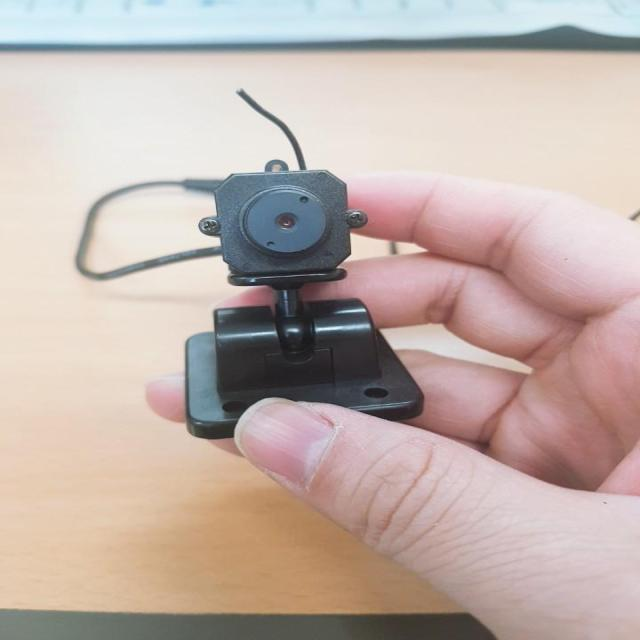hidden camera: (244, 189, 329, 259)
